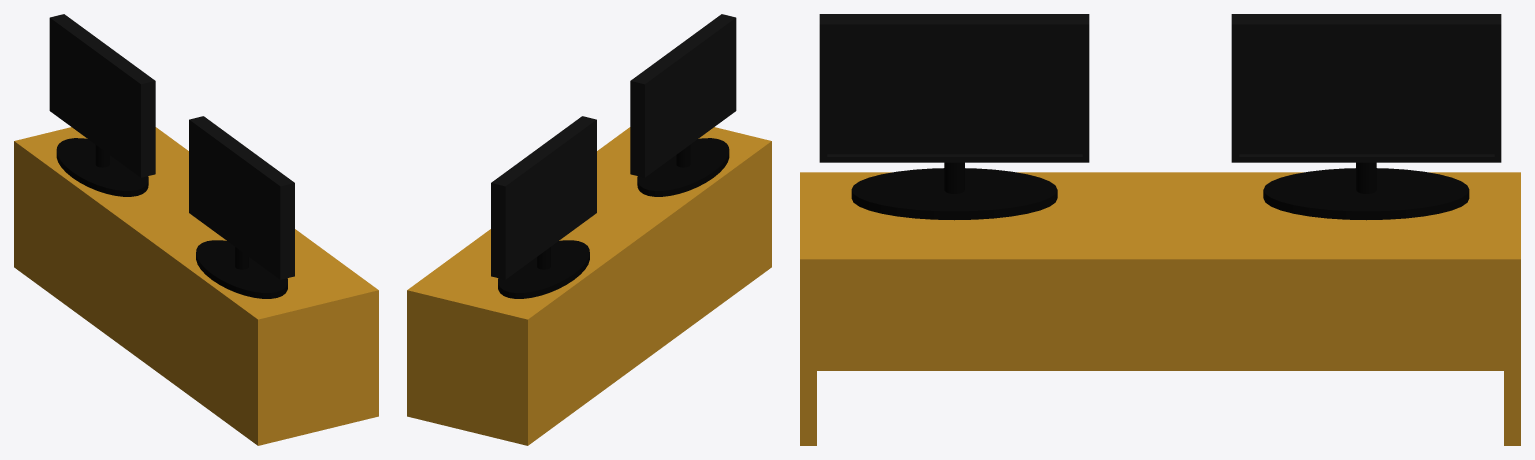
File: desk.obj
3 views of the same model, side by side, from view 1: azimuth 30°, elevation 25°; view 2: azimuth 150°, elevation 25°; view 3: azimuth 270°, elevation 25° (orthographic). The views are drawn at different scales.
Visible parts, largest first — view 1: Desk_Cube, Computer2_큐브.002, Computer_큐브; view 2: Desk_Cube, Computer_큐브, Computer2_큐브.002; view 3: Desk_Cube, Computer_큐브, Computer2_큐브.002.
Part boxes in pixels (x1,y1,x2,y2): Desk_Cube: [14, 127, 378, 445]; Computer2_큐브.002: [49, 14, 155, 196]; Computer_큐브: [189, 116, 294, 298]; Desk_Cube: [407, 127, 771, 445]; Computer_큐브: [630, 14, 736, 196]; Computer2_큐브.002: [491, 116, 596, 298]; Desk_Cube: [800, 172, 1520, 445]; Computer_큐브: [819, 14, 1089, 220]; Computer2_큐브.002: [1231, 14, 1501, 220].
Bounding box in the file's own units: 2 × 3.92 × 7.
